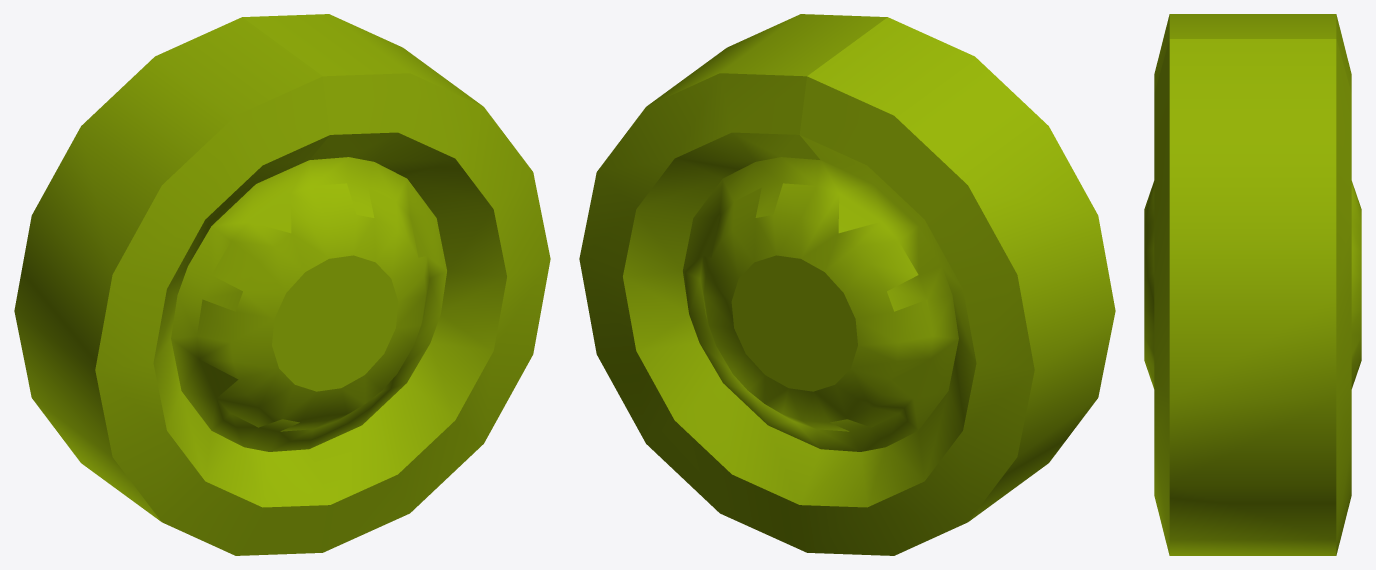
File: obj_vehicle_gripwheel_7x_lod2.fbx
3 renders of one model, left to right at view 1: azimuth 30°, elevation 25°; view 2: azimuth 150°, elevation 25°; view 3: azimuth 270°, elevation 25°, orthographic. The views are drawn at different scales.
Visible parts, largest first — view 1: gripwheel_7x_lod2.001; view 2: gripwheel_7x_lod2.001; view 3: gripwheel_7x_lod2.001.
Boxes of the visible parts, x1,y1,x2,y2 form: gripwheel_7x_lod2.001: [14, 14, 550, 555]; gripwheel_7x_lod2.001: [579, 14, 1115, 555]; gripwheel_7x_lod2.001: [1144, 14, 1361, 555].
Size of the model in its own units: 4.99 by 4.99 by 2.
